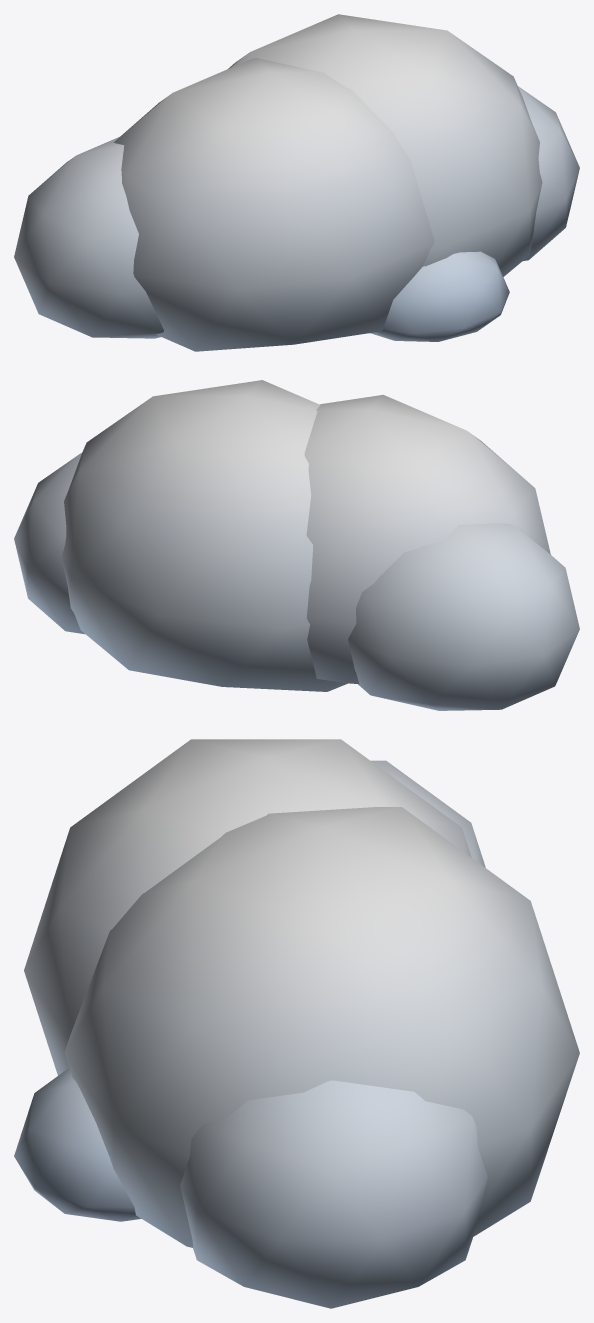
Rendered from cloud_1.glb.
3 views of the same model, one above another, from view 1: azimuth 30°, elevation 25°; view 2: azimuth 150°, elevation 25°; view 3: azimuth 270°, elevation 25° (orthographic). The views are drawn at different scales.
Parts seen in each view (by area): view 1: Cloud; view 2: Cloud; view 3: Cloud.
Part boxes in pixels (x1,y1,x2,y2): Cloud: (14, 14, 579, 351); Cloud: (14, 380, 579, 710); Cloud: (14, 739, 579, 1308).
Size of the model in its own units: 6.06 by 2.66 by 3.83.
